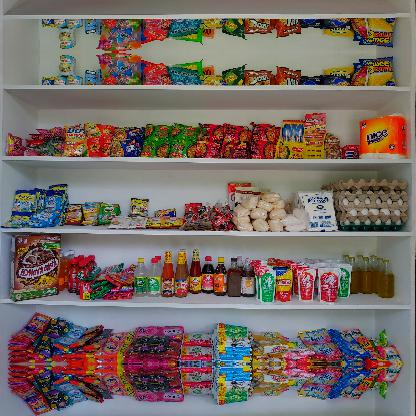Koko-Krunch: (9, 232, 62, 302)
